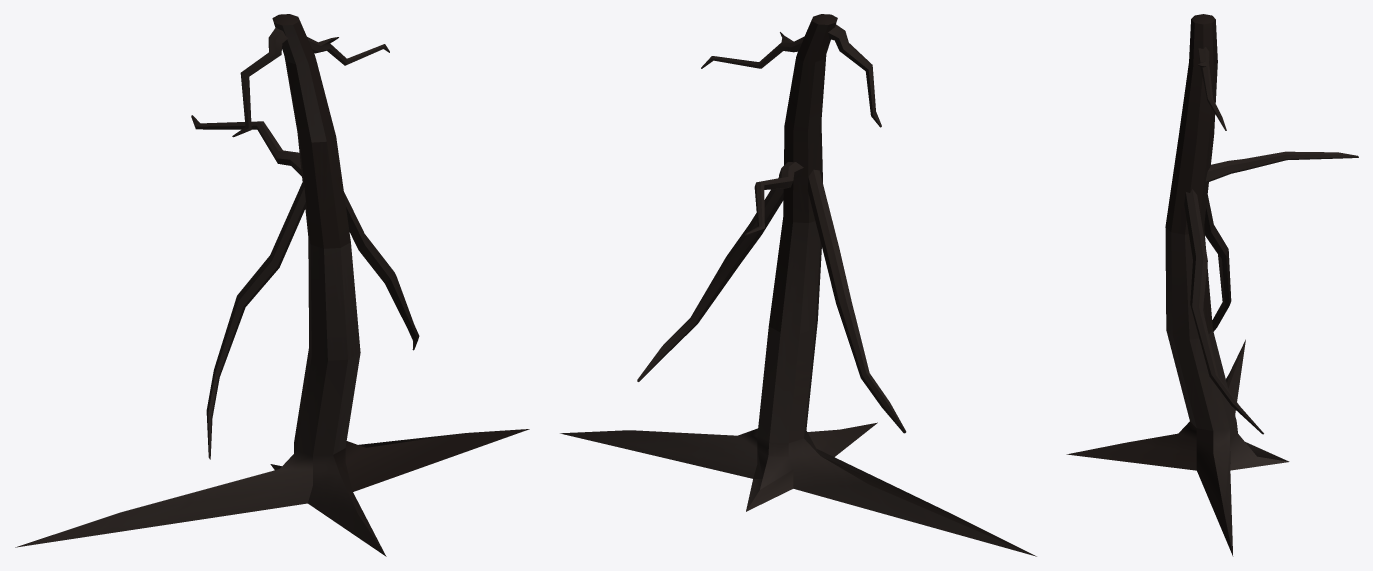
The model's file is arvore1.fbx.
3 renders of one model, left to right at view 1: azimuth 30°, elevation 25°; view 2: azimuth 150°, elevation 25°; view 3: azimuth 270°, elevation 25°, orthographic. The views are drawn at different scales.
Parts seen in each view (by area): view 1: pCylinder72; view 2: pCylinder72; view 3: pCylinder72.
Part boxes in pixels (x1,y1,x2,y2): pCylinder72: (15,14,529,556); pCylinder72: (560,14,1036,556); pCylinder72: (1066,14,1358,556).
Bounding box in the file's own units: 8.13 × 7.53 × 4.61.
